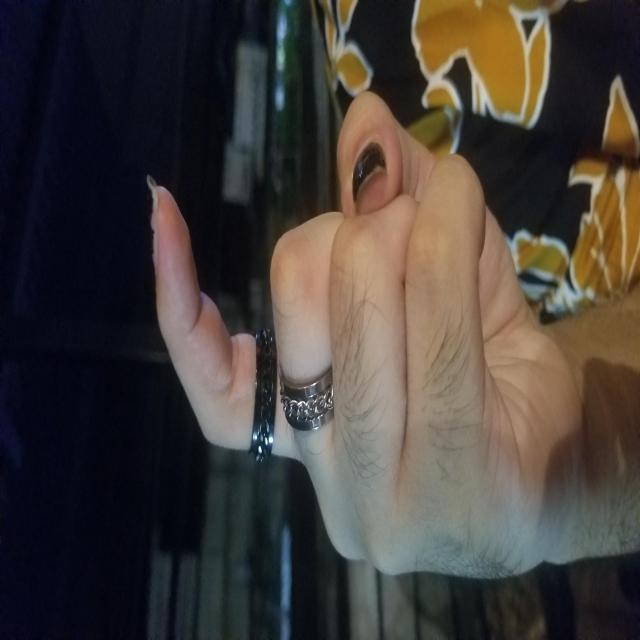X: (53, 150, 468, 580)
